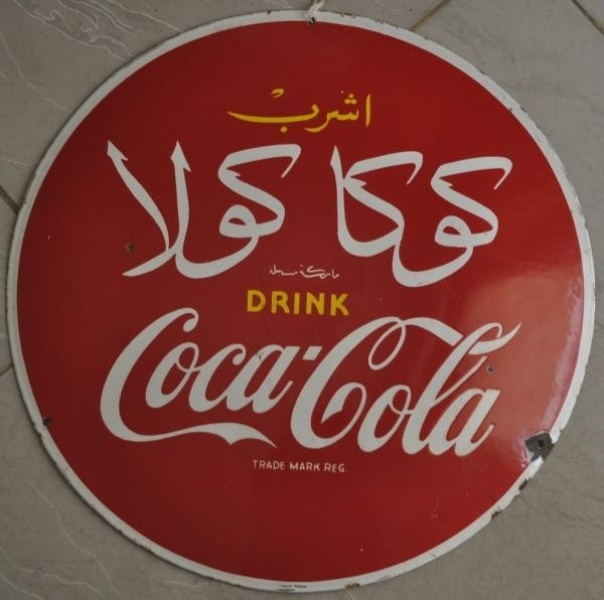text: (129, 303, 144, 460), (145, 303, 160, 460), (161, 303, 176, 460), (177, 303, 192, 460), (193, 303, 208, 460), (209, 303, 224, 460), (225, 303, 240, 460), (241, 303, 256, 460), (257, 303, 272, 460), (273, 303, 288, 460), (289, 303, 304, 460), (305, 303, 320, 460), (321, 303, 336, 460), (337, 303, 352, 460), (353, 303, 368, 460), (369, 303, 384, 460), (385, 303, 400, 460), (401, 303, 416, 460), (417, 303, 432, 460), (433, 303, 448, 460), (449, 303, 464, 460), (465, 303, 480, 460), (481, 303, 496, 460), (497, 303, 512, 460), (513, 303, 528, 460), (289, 137, 305, 278), (337, 143, 352, 292), (353, 143, 368, 292), (369, 143, 384, 292), (385, 143, 400, 292), (401, 143, 416, 292), (417, 143, 432, 292), (433, 143, 448, 292), (449, 143, 464, 292), (465, 143, 480, 292), (481, 143, 496, 292), (497, 143, 512, 292), (113, 137, 128, 278), (129, 137, 144, 278), (145, 137, 160, 278), (161, 137, 176, 278), (177, 137, 192, 278), (193, 137, 208, 278), (209, 137, 224, 278), (225, 137, 240, 278), (241, 137, 256, 278), (257, 137, 272, 278), (273, 137, 288, 278), (326, 143, 336, 292), (102, 137, 112, 278), (225, 86, 240, 137), (241, 86, 256, 137), (257, 86, 272, 137), (273, 86, 288, 137), (289, 86, 304, 137), (305, 86, 320, 137), (321, 86, 336, 137), (337, 86, 352, 137), (353, 86, 368, 137), (257, 287, 272, 320), (273, 287, 288, 320), (289, 287, 304, 320), (305, 287, 320, 320), (321, 287, 336, 320), (337, 287, 352, 320), (125, 303, 128, 460), (245, 287, 256, 320), (305, 261, 320, 284), (321, 261, 336, 284), (513, 143, 515, 292), (273, 456, 289, 474), (257, 456, 272, 474), (369, 86, 374, 137), (273, 262, 288, 279), (305, 459, 321, 473), (289, 459, 304, 473), (289, 262, 301, 279), (323, 461, 336, 476), (337, 461, 349, 476), (529, 303, 530, 460), (248, 456, 256, 474), (299, 261, 304, 284), (337, 261, 341, 284), (267, 262, 272, 279)
